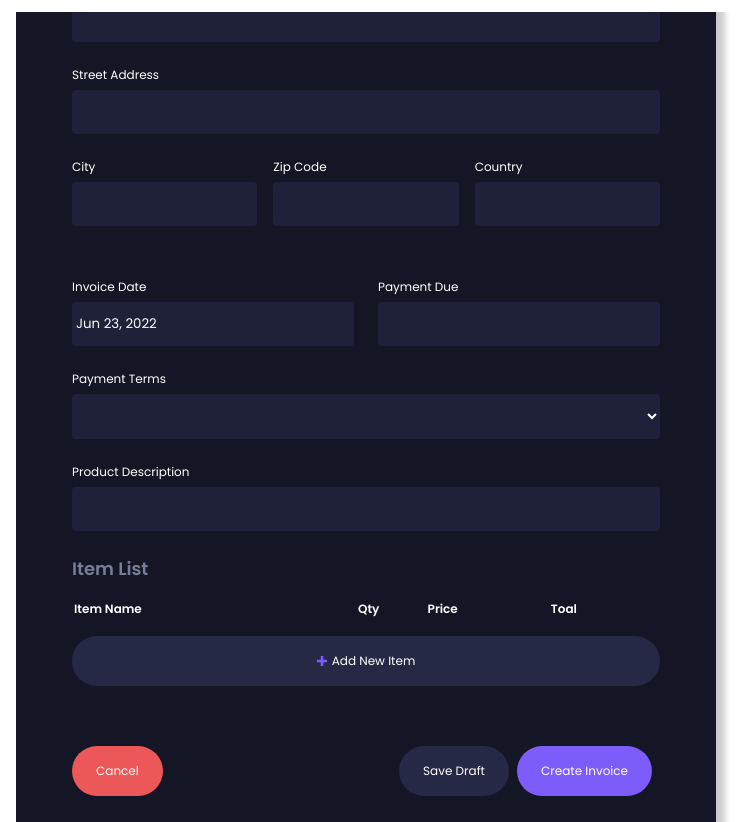
Home.vue › renders input field
This screenshot has width=744, height=822.
(page scrolled)
Select "Net 60 Days" in the dropdown labelled "Payment Terms" at (366, 416), box [72,394,660,439]
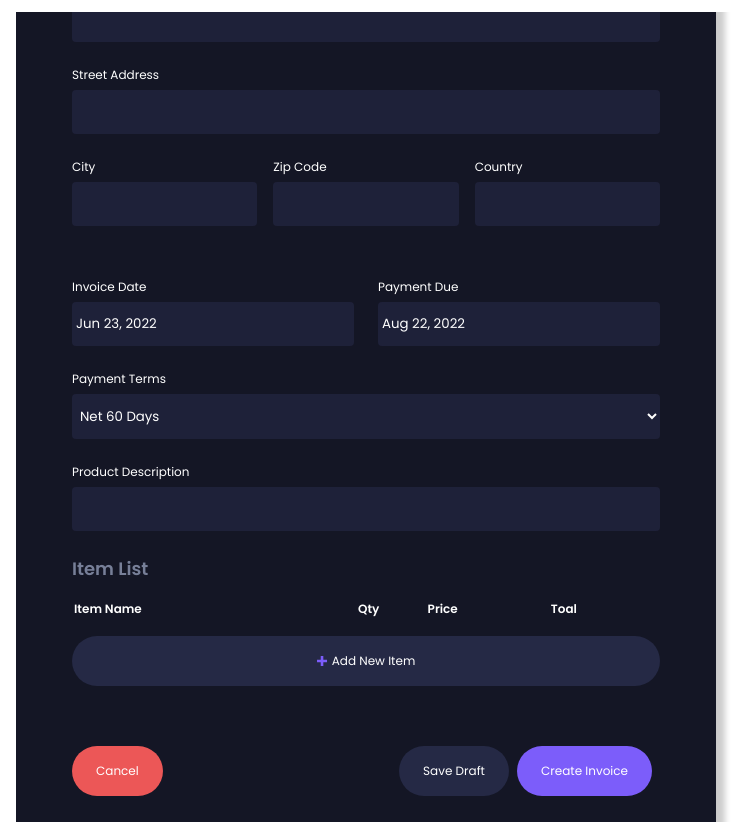
expect the field labelled "Payment Due" holds "Aug 22, 2022": met, box [378,302,660,346]
